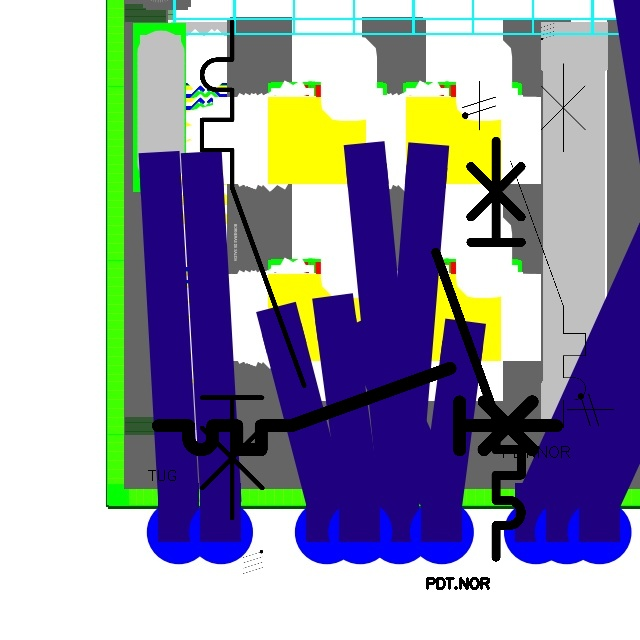interruptor_termomagnetico: (189, 9, 317, 531), (425, 130, 532, 567), (148, 358, 567, 460), (501, 54, 595, 437)
